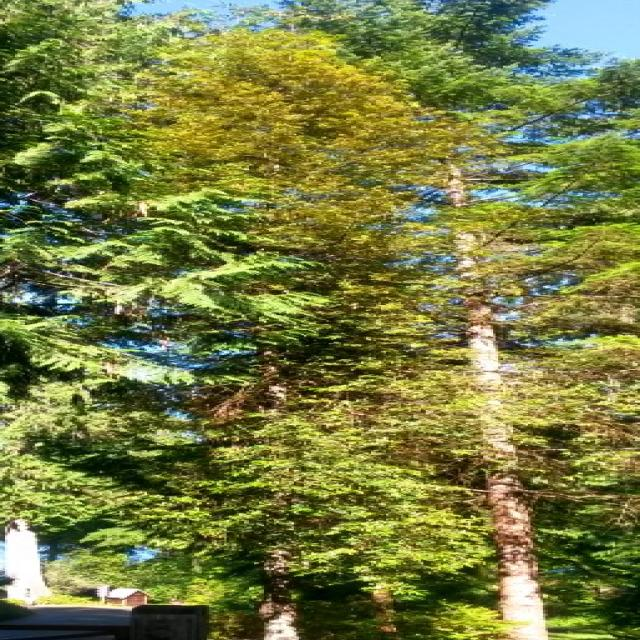Chrysolepis chrysophylla: (55, 15, 510, 640)
